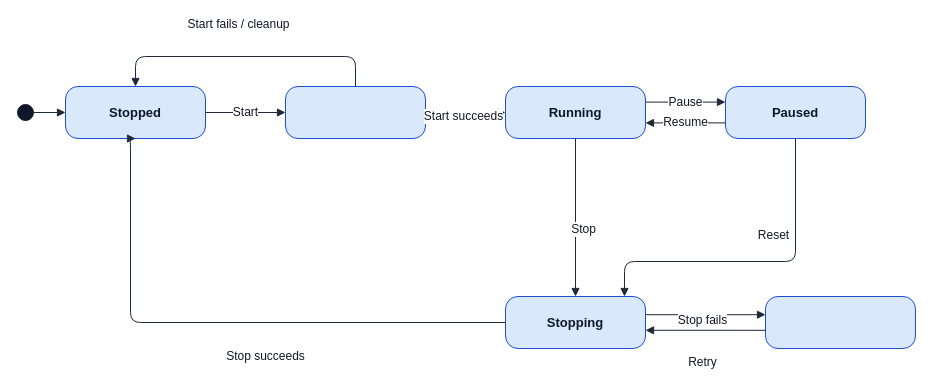
Some shapes in this 933 by 386 pixel diagram are drawn without their labels. The centre of each missing label's shape, as x and y in pixels:
"Starting" belongs at (x=355, y=112).
"StopFailed" belongs at (x=840, y=322).
